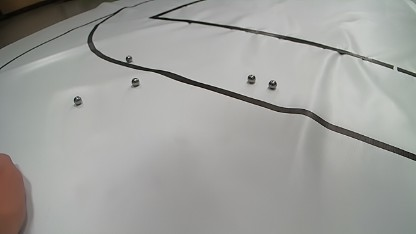ironball: (268, 80, 277, 89), (73, 96, 82, 105), (131, 77, 140, 86), (247, 74, 255, 83), (126, 55, 132, 63)
